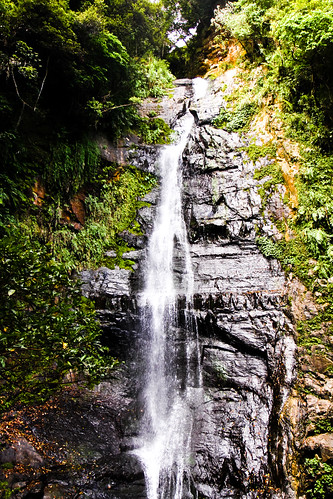wufengciWaterfall: (100, 60, 296, 499)
